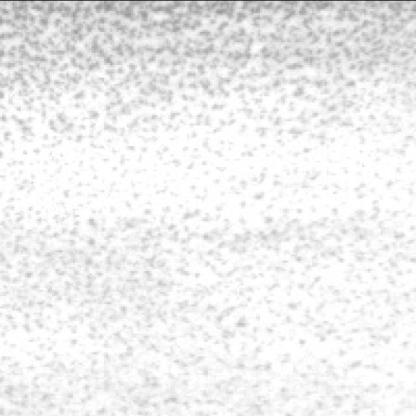pitted_surface: (2, 179, 416, 412), (2, 0, 416, 150)
